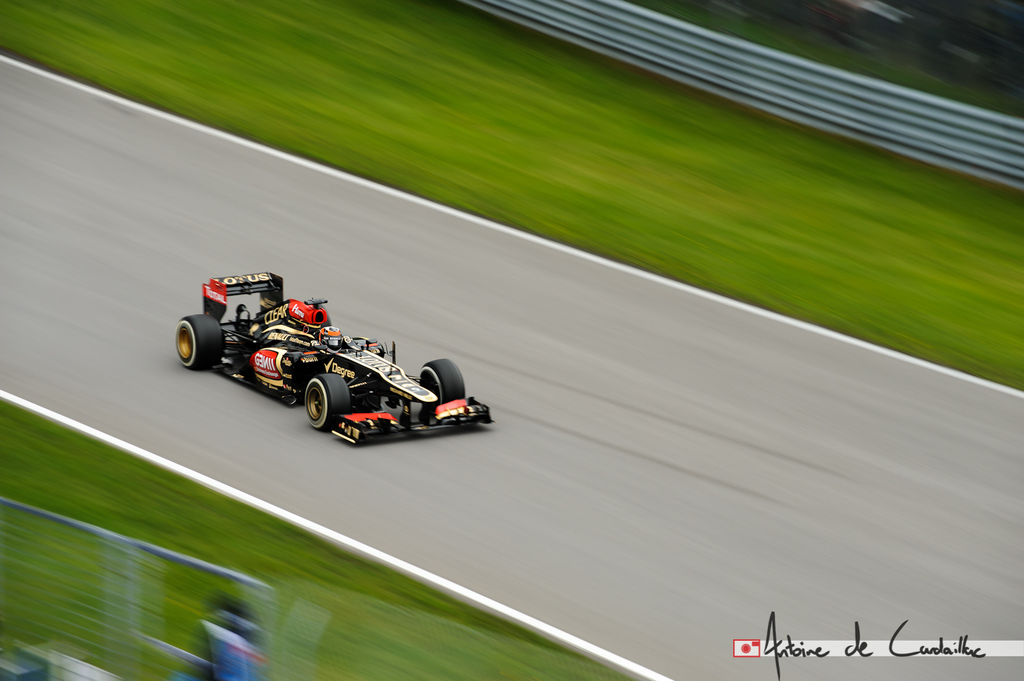Car: (176, 270, 492, 444)
